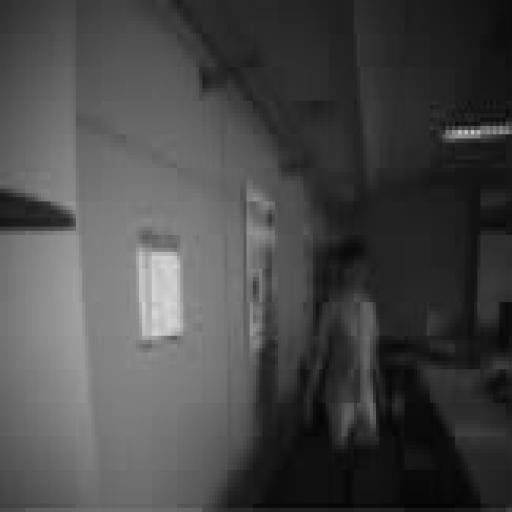human: (307, 236, 379, 449)
